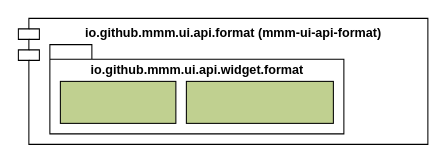
The diagram is 446 pixels wide and 163 high, and some of its shapes have lost their labels. Each missing label, with the centre of its shape:
"«interface» UiHtmlEditor" goes at point 117,101.
"«interface» UiSourceCodeViewer" goes at point 259,101.
